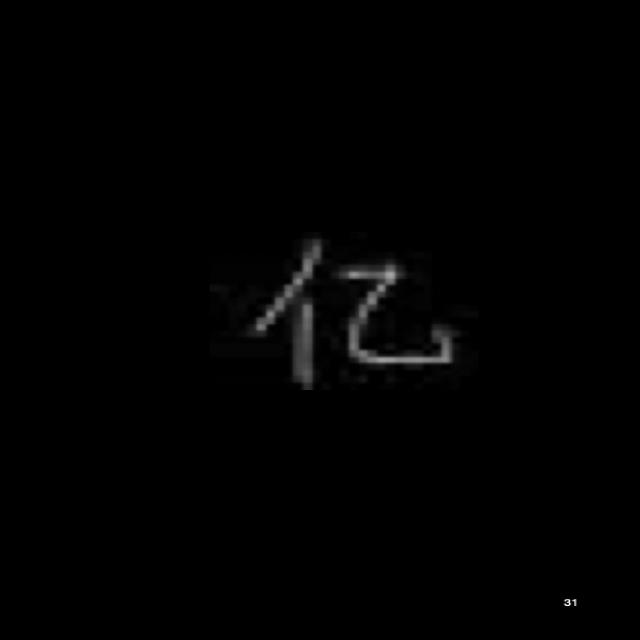100000 -a hundred thousand-: (234, 236, 474, 406)
